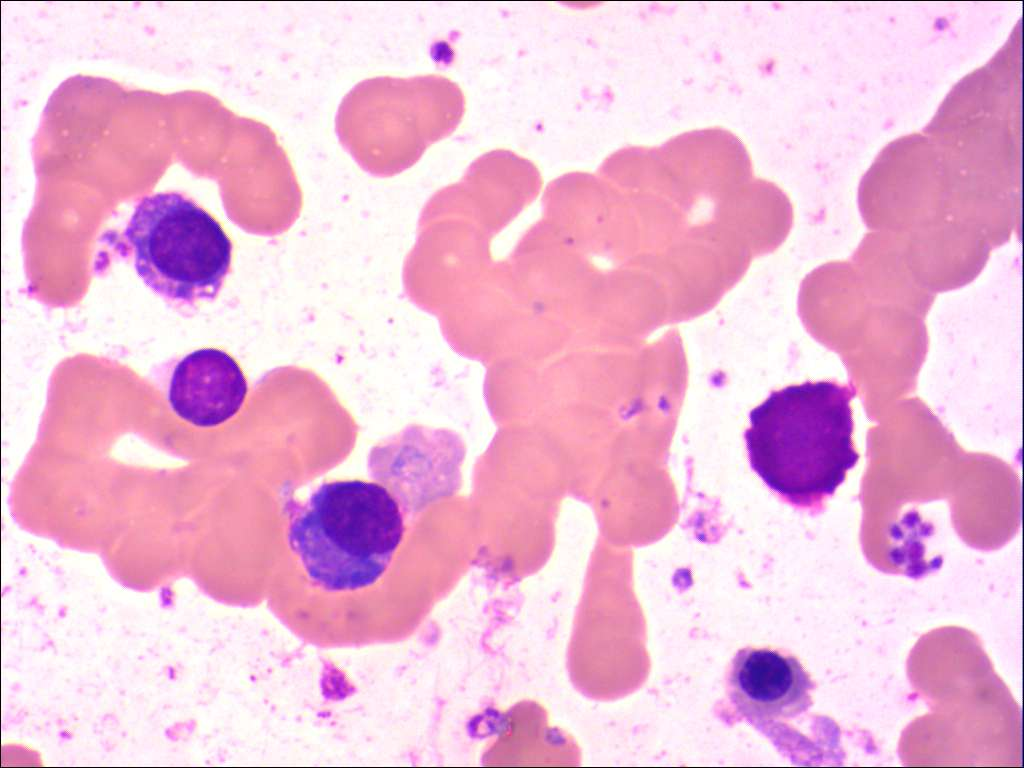24: (719, 642, 819, 726)
51: (121, 185, 236, 309)
52: (284, 474, 408, 594)
x: (740, 375, 862, 519), (141, 343, 253, 431)
